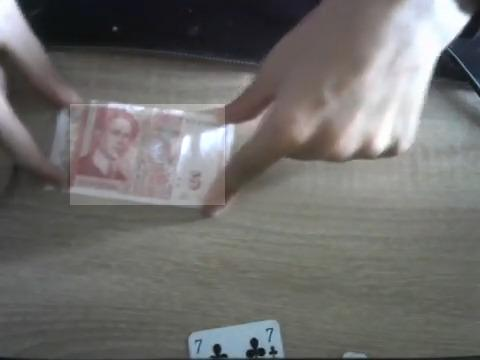5leva: (70, 104, 225, 205)
